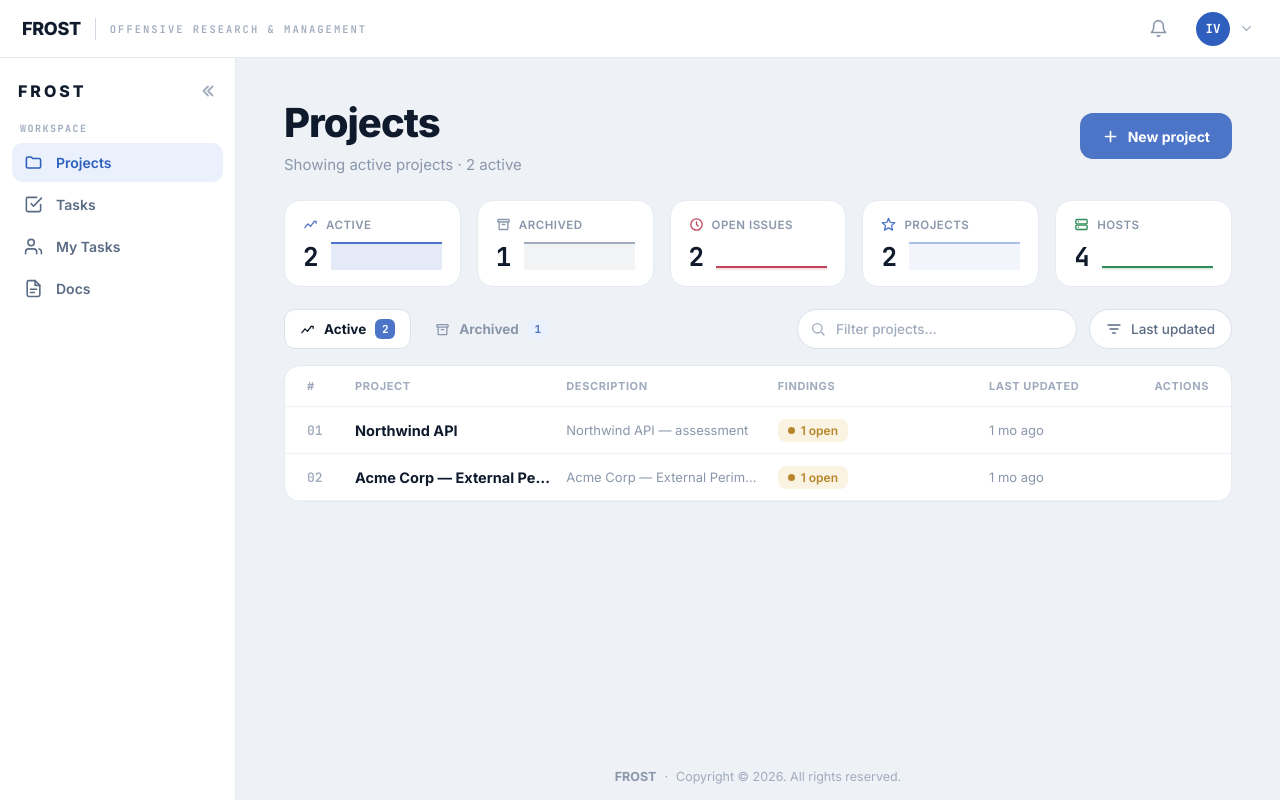
FROST role model › lets a non-lead project member view members but not manage them
Click the text "Acme Corp — External Perimeter". click: [455, 477]
box: [355,468,554,486]
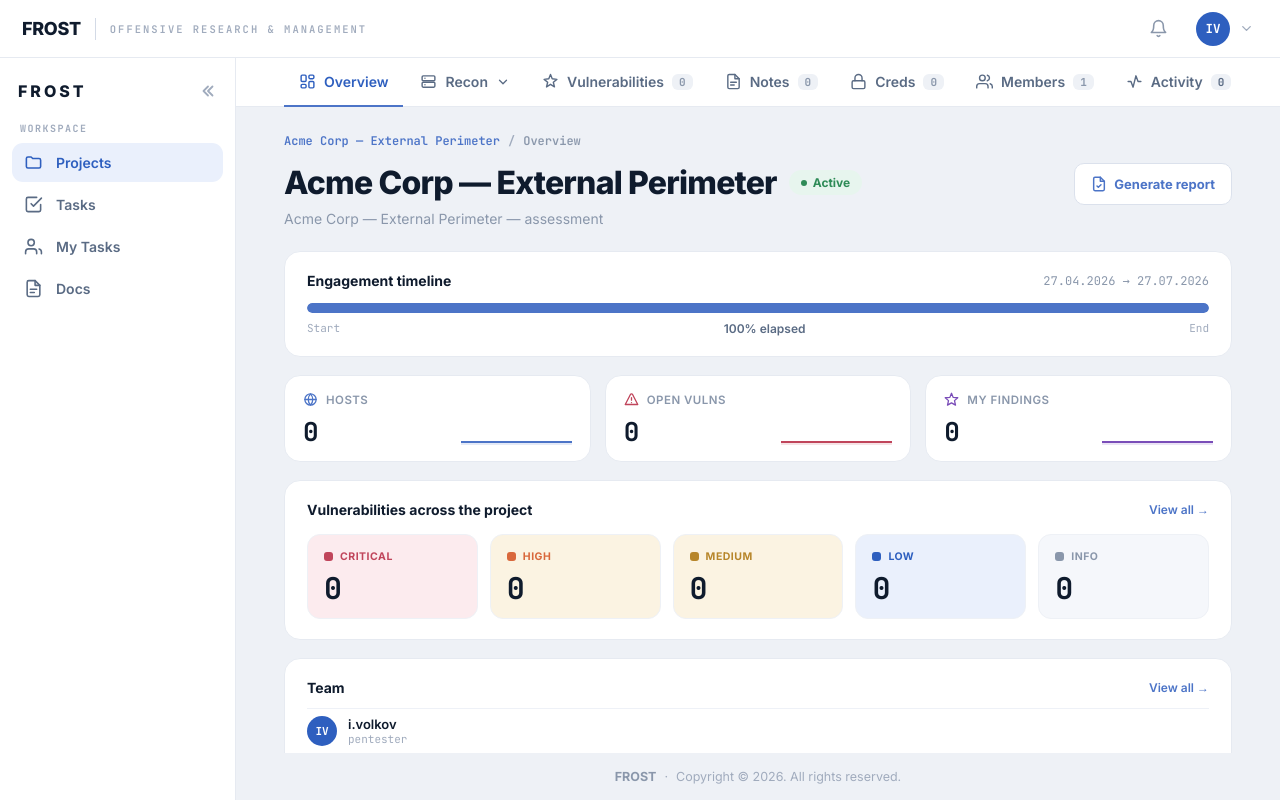
Expected: the text "View all →" in the row of "Vulnerabilities across the project" is shown, [1149,502,1209,517]
// The Members tab is visible and lists members…
Click the text "Members". click: [1035, 82]
box: [976,73,1094,90]
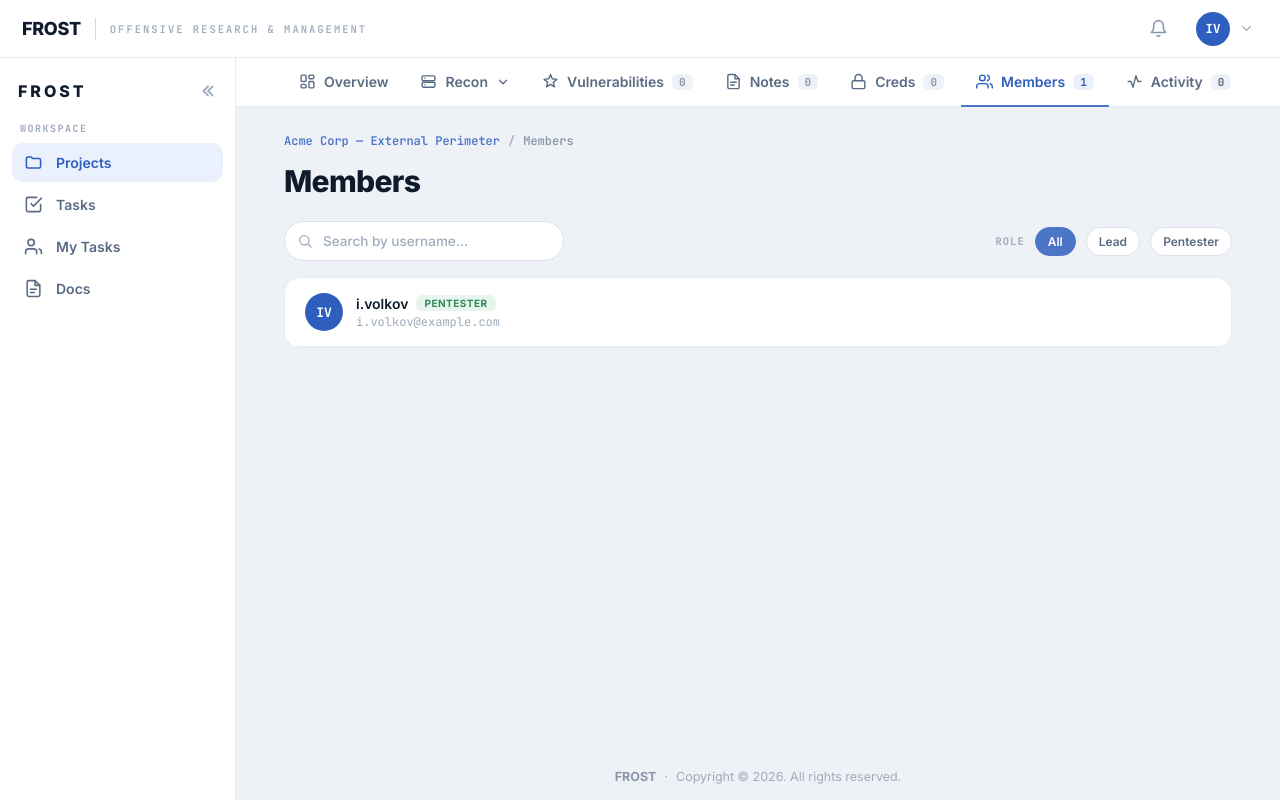
Expected: the text "i.volkov" is shown, [356,294,408,312]
